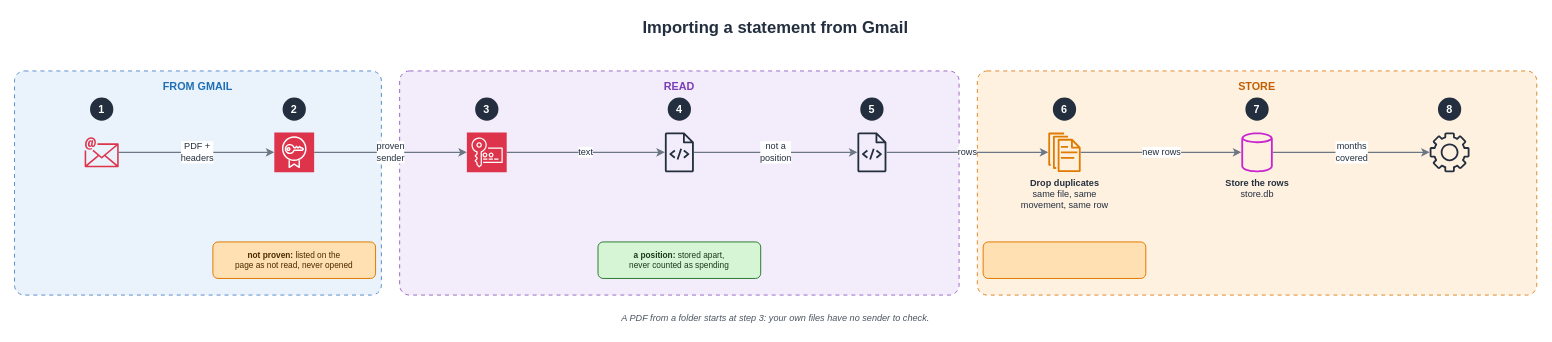
The diagram is 1552 pixels wide and 342 high, and some of its shapes have lost their labels. Here are the shapes that lost their labels. From the top down, the centre of each, then its label:
At (101,152): "Statement email from your bank, read-only".
At (293,152): "Sender check trusted bank domain + Gmail's DKIM / DMARC".
At (486,152): "Unlock the PDF password derived in memory from your hints".
At (678,152): "Loan, FD or NPS? inboxkit.positions, checks its own sums".
At (871,152): "Parse the statement bank or card parser, amounts in paise".
At (1449,152): "Reconcile live rows pair SMS rows with statement lines".
At (1064,260): "already stored: counted as a duplicate".
